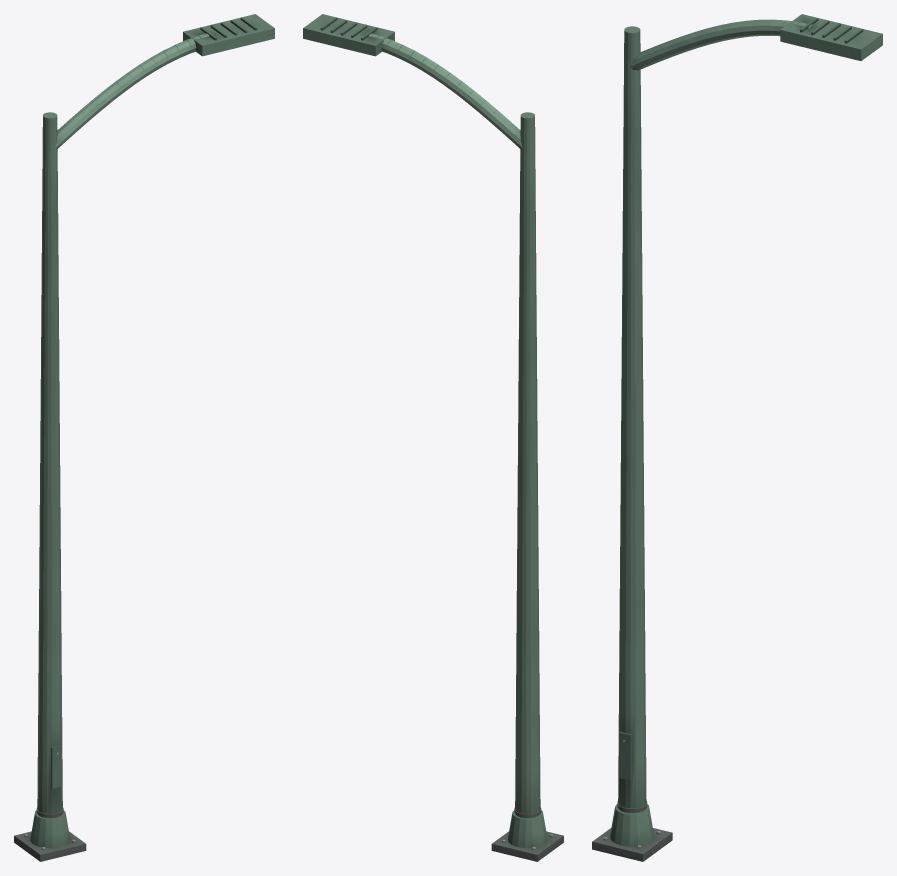
Rendered from lamp.glb.
3 views of the same model, side by side, from view 1: azimuth 30°, elevation 25°; view 2: azimuth 150°, elevation 25°; view 3: azimuth 330°, elevation 25° (orthographic). The views are drawn at different scales.
Parts seen in each view (by area): view 1: lamp; view 2: lamp; view 3: lamp.
Part boxes in pixels (left/top/right/bottom): lamp: left=14, top=14, right=274, bottom=861; lamp: left=303, top=14, right=563, bottom=861; lamp: left=592, top=14, right=882, bottom=861.
Size of the model in its own units: 1.77 by 5.51 by 0.34.
